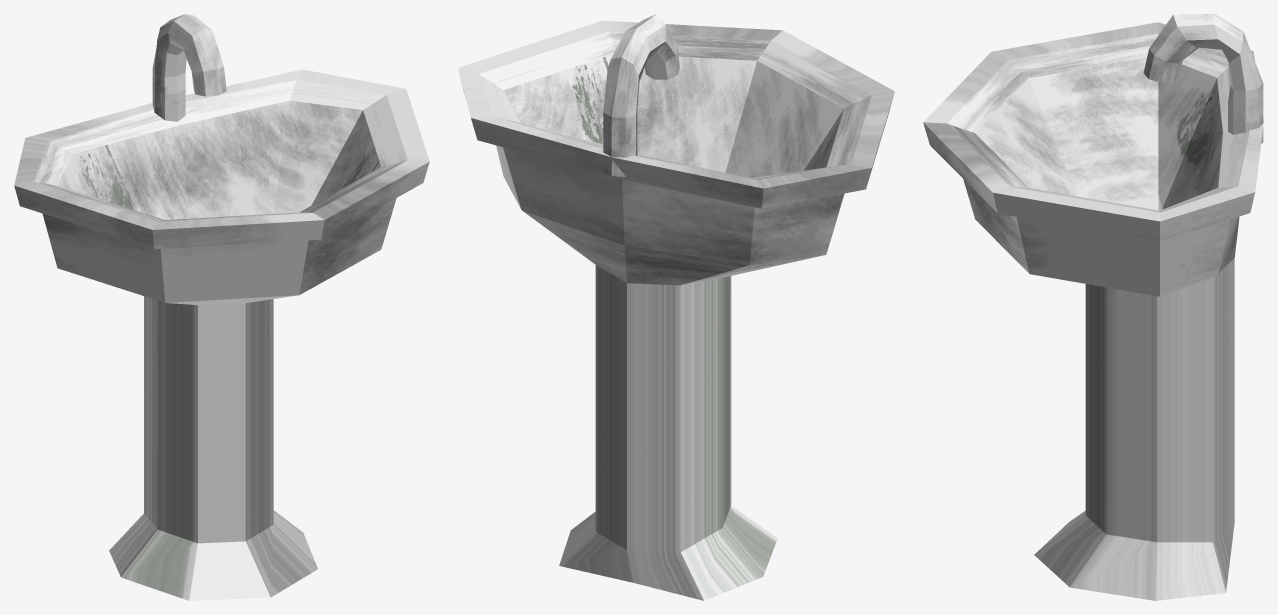
The model's file is small sink.fbx.
3 renders of one model, left to right at view 1: azimuth 30°, elevation 25°; view 2: azimuth 150°, elevation 25°; view 3: azimuth 270°, elevation 25°, orthographic. The views are drawn at different scales.
Parts seen in each view (by area): view 1: sink.003; view 2: sink.003; view 3: sink.003.
Part boxes in pixels (x1=…): sink.003: x1=14, y1=14, x2=429, y2=600; sink.003: x1=458, y1=14, x2=894, y2=600; sink.003: x1=923, y1=14, x2=1263, y2=600.
Size of the model in its own units: 150 by 191 by 108.
